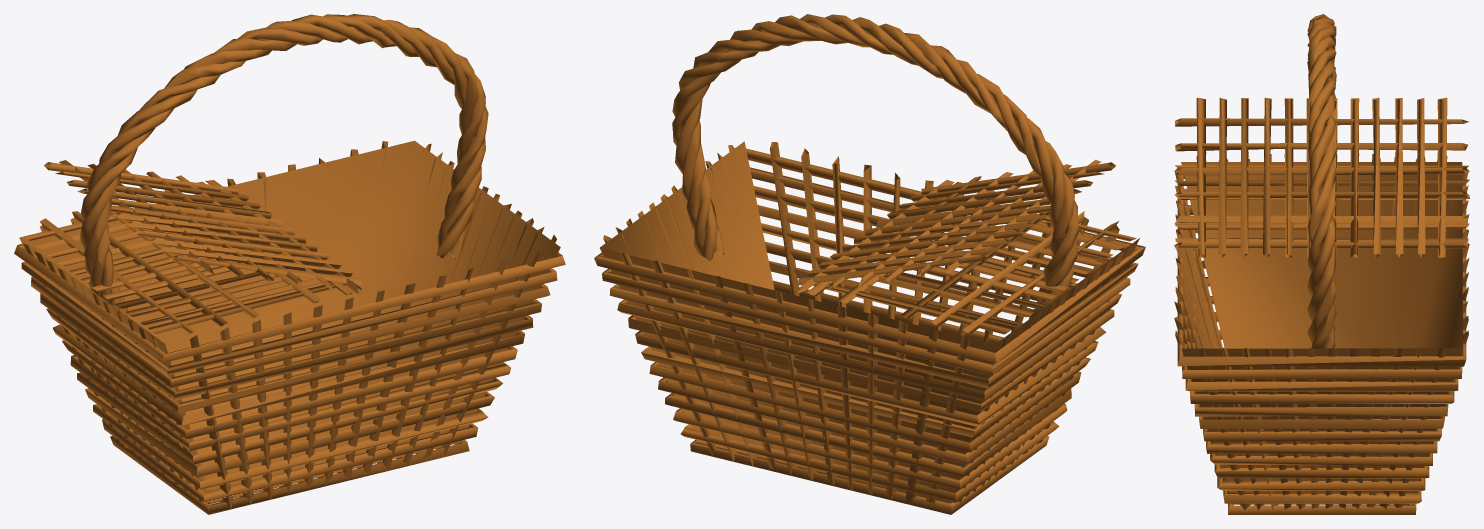
Rendered from cestino_picnic_LOD1.fbx.
The picture shows the model from 3 angles, left to right: view 1: azimuth 30°, elevation 25°; view 2: azimuth 150°, elevation 25°; view 3: azimuth 270°, elevation 25°; orthographic projection. The views are drawn at different scales.
Visible parts, largest first — view 1: clothes_003; view 2: clothes_003; view 3: clothes_003.
Part boxes in pixels (x1=…): clothes_003: x1=14, y1=14, x2=565, y2=514; clothes_003: x1=594, y1=14, x2=1145, y2=514; clothes_003: x1=1174, y1=14, x2=1469, y2=514.
Bounding box in the file's own units: 160 × 159 × 103.
